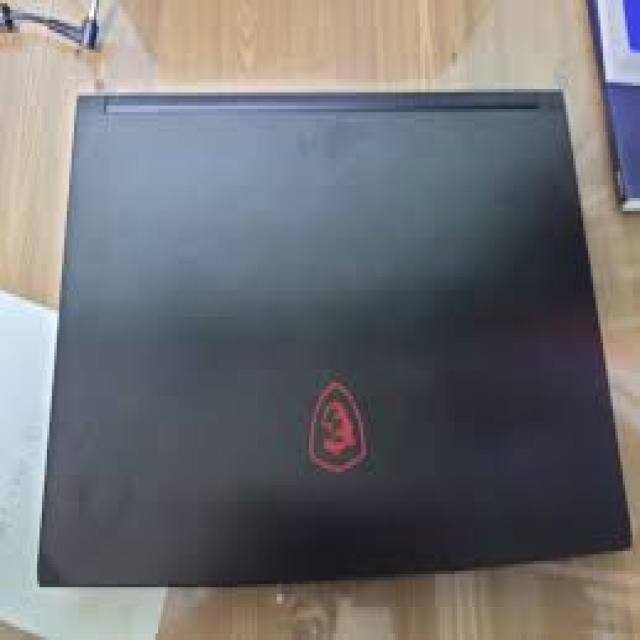laptop: (35, 86, 632, 587)
